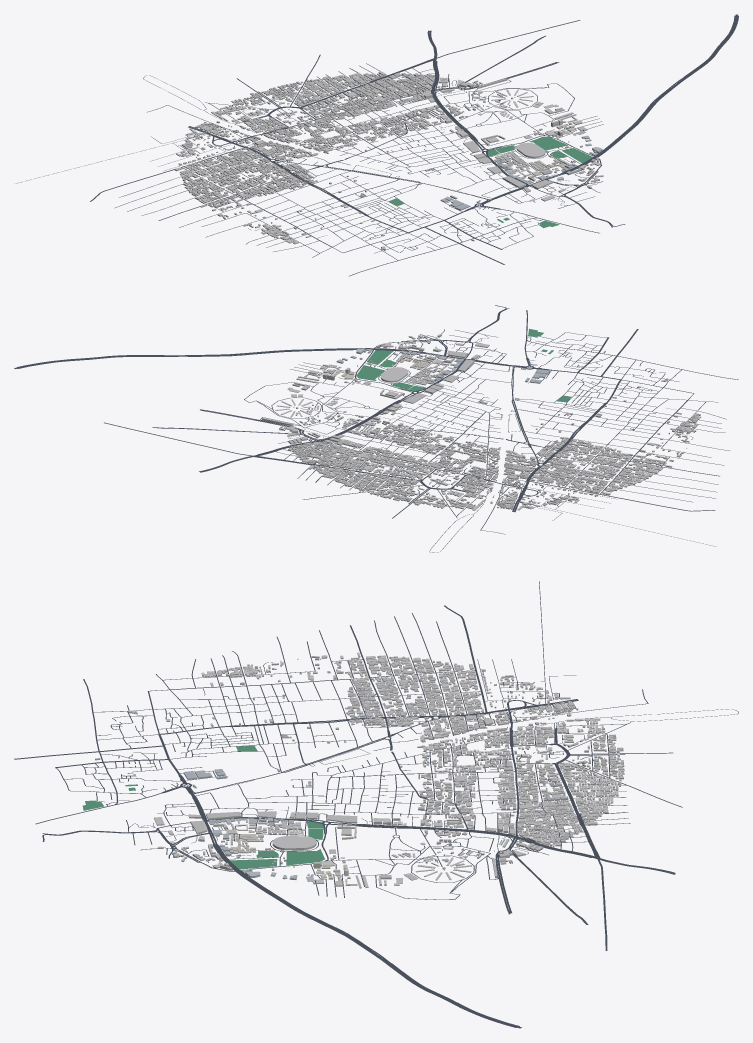
Rendered from city.glb.
3 renders of one model, top to bottom at view 1: azimuth 30°, elevation 25°; view 2: azimuth 150°, elevation 25°; view 3: azimuth 270°, elevation 25°, orthographic. The views are drawn at different scales.
Parts seen in each view (by area): view 1: buildings, roads, parks; view 2: buildings, roads, parks; view 3: buildings, roads, parks.
Part boxes in pixels (x1,y1,x2,y2): buildings: [174, 71, 603, 250]; roads: [16, 14, 738, 276]; parks: [389, 92, 592, 228]; buildings: [261, 334, 701, 510]; roads: [14, 305, 738, 552]; parks: [314, 328, 571, 435]; buildings: [95, 652, 624, 888]; roads: [14, 581, 738, 1028]; parks: [82, 745, 501, 869].
Bounding box in the file's own units: 5556 × 29.6 × 3806.
